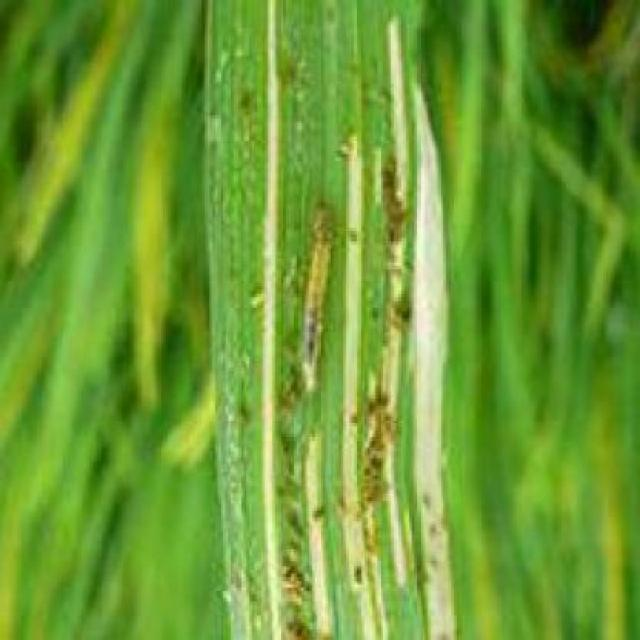leaf-folder: (292, 227, 342, 413)
